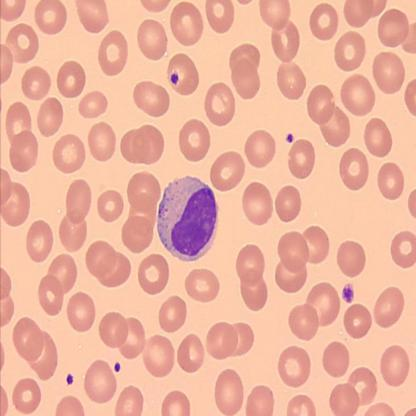Atypical lymphocyte: (157, 175, 219, 262)
